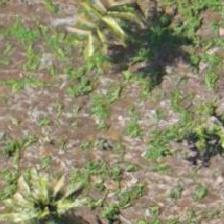coconut_tree: (3, 160, 93, 223), (61, 0, 151, 59)
